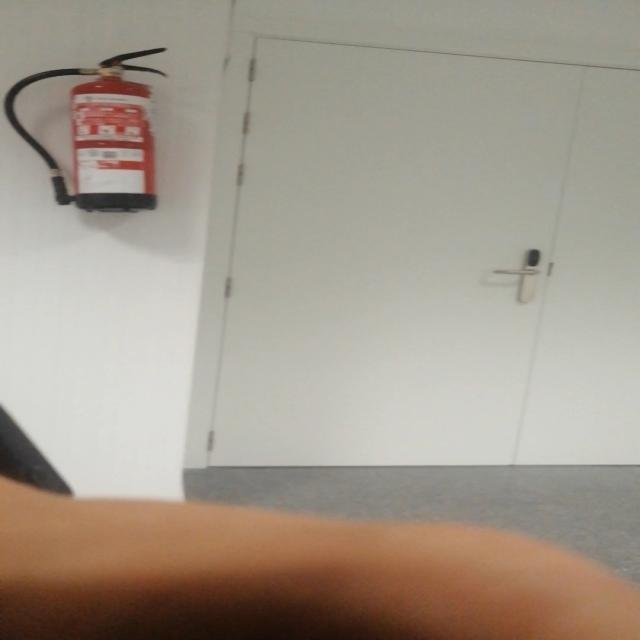door_handle: (486, 267, 546, 277)
